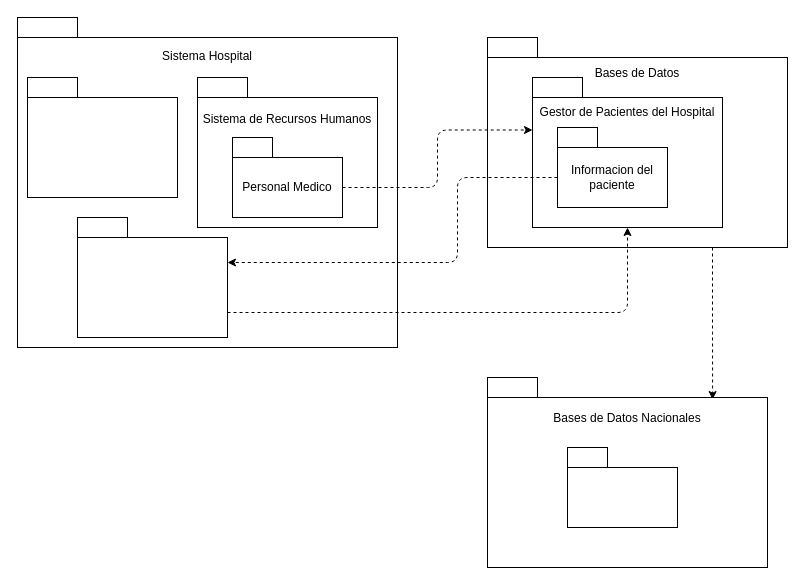
Some shapes in this 805 by 585 pixel diagram are drawn without their labels. The shapes that lost their labels are listed below. From the top down, each one's centre as x and y in pixels, then its label:
At [102,147]: "Sistema de Admistracion de Pacientes".
At [152,287]: "Sistema de Pacientes Covid".
At [622,497]: "Casos Covid Estatales".
